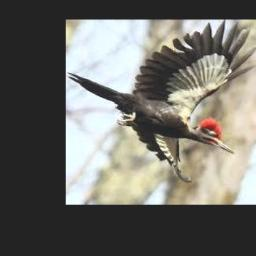Woodpecker: (67, 20, 256, 182)
